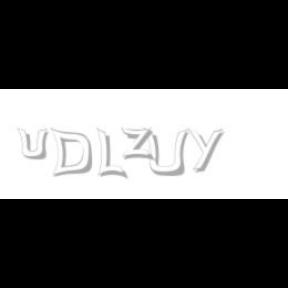D: (50, 128, 92, 178)
L: (97, 128, 125, 180)
U: (142, 128, 188, 178)
u: (16, 128, 52, 160)
y: (187, 128, 227, 172)
z: (120, 128, 156, 160)
